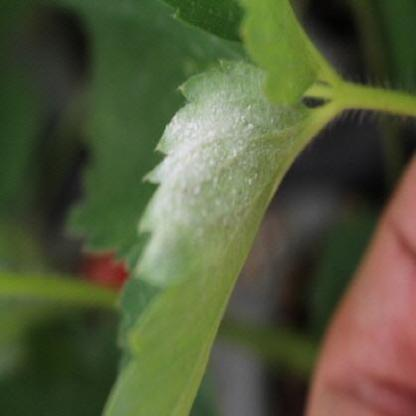Strawberry_Powdery_Mildew_Leaf: (102, 58, 329, 415)
